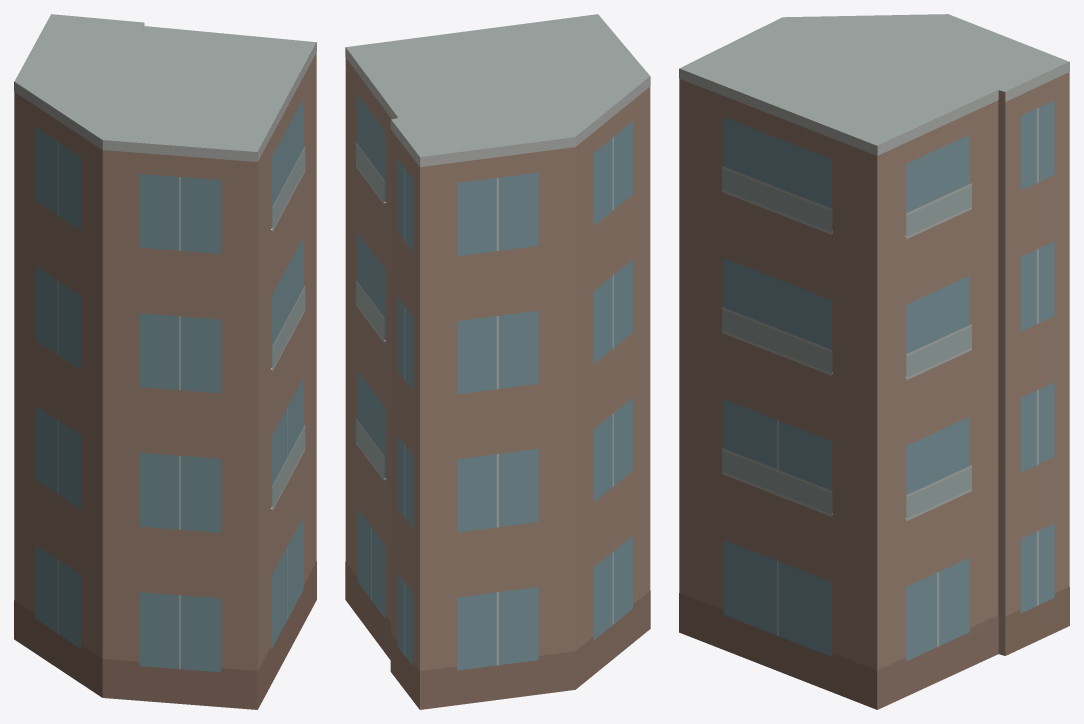
Rendered from survey-upis-32468741.glb.
3 renders of one model, left to right at view 1: azimuth 30°, elevation 25°; view 2: azimuth 150°, elevation 25°; view 3: azimuth 270°, elevation 25°, orthographic. The views are drawn at different scales.
Visible parts, largest first — view 1: survey-upis-32468741.tmp; view 2: survey-upis-32468741.tmp; view 3: survey-upis-32468741.tmp.
Part boxes in pixels (left/top/right/bottom): survey-upis-32468741.tmp: left=14, top=14, right=316, bottom=709; survey-upis-32468741.tmp: left=345, top=14, right=650, bottom=709; survey-upis-32468741.tmp: left=679, top=14, right=1069, bottom=709.
Bounding box in the file's own units: 6.85 × 13.64 × 8.57.
